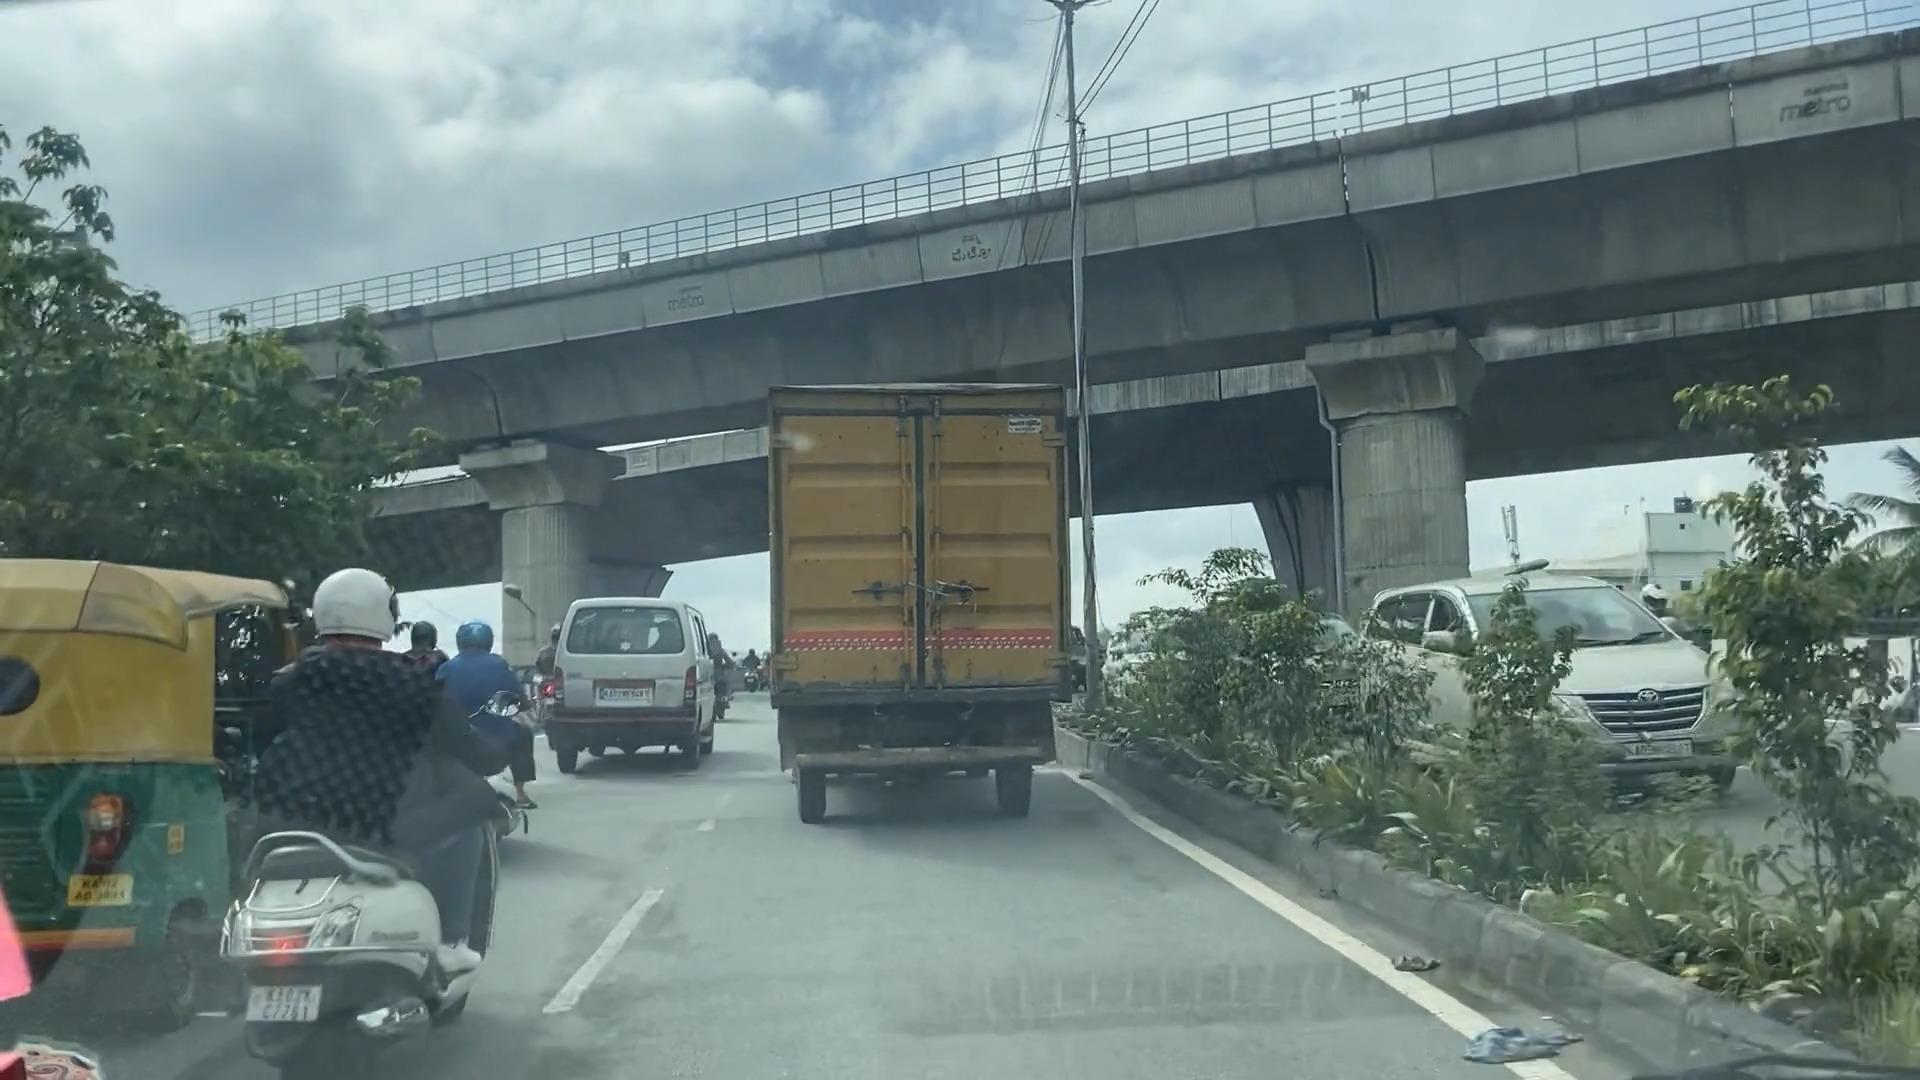HMV: (773, 390, 1062, 811)
